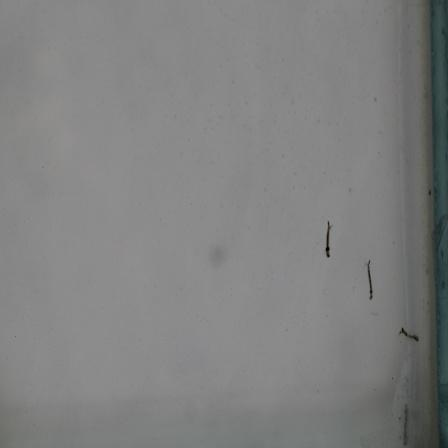Jentik-Nyamuk: (362, 257, 377, 303), (322, 217, 337, 262), (397, 324, 421, 346)
